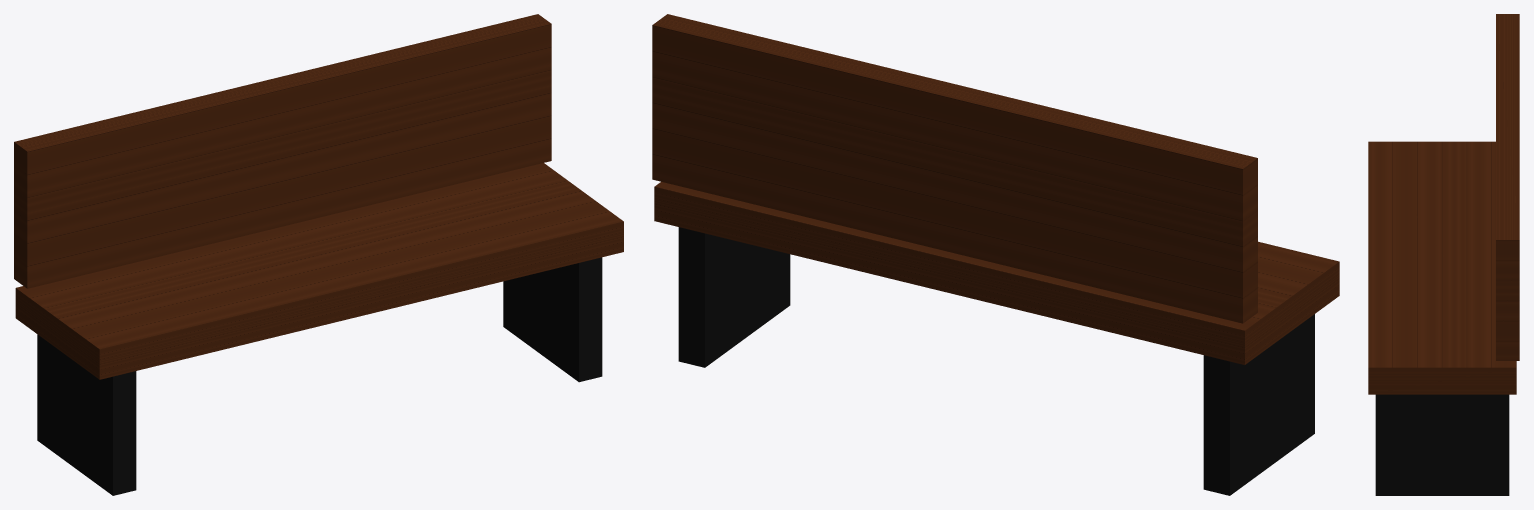
The model's file is banco-blocos.glb.
3 renders of one model, left to right at view 1: azimuth 30°, elevation 25°; view 2: azimuth 150°, elevation 25°; view 3: azimuth 270°, elevation 25°, orthographic. The views are drawn at different scales.
Parts seen in each view (by area): view 1: encosto, assento, banco_blocos; view 2: encosto, assento, banco_blocos; view 3: assento, banco_blocos, encosto.
Part boxes in pixels (bbox=[...]): encosto: bbox=[14, 14, 551, 288]; assento: bbox=[15, 163, 623, 379]; banco_blocos: bbox=[37, 257, 602, 495]; encosto: bbox=[652, 14, 1257, 323]; assento: bbox=[654, 181, 1339, 364]; banco_blocos: bbox=[678, 227, 1314, 495]; assento: bbox=[1368, 141, 1516, 394]; banco_blocos: bbox=[1375, 394, 1509, 495]; encosto: bbox=[1496, 14, 1519, 360].
Size of the model in its own units: 1.8 by 0.98 by 0.51.
Materials: 2 (1 with a texture image).
